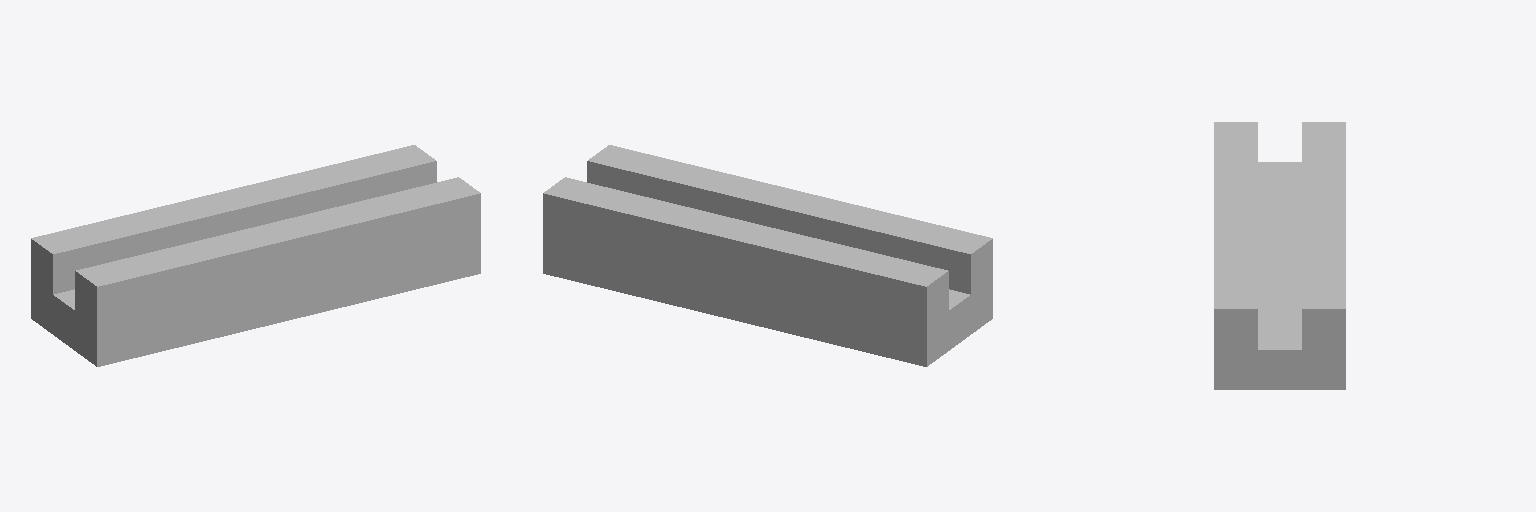
The model's file is Weapons-24-Model 10 Pump.obj.
The picture shows the model from 3 angles: view 1: azimuth 30°, elevation 25°; view 2: azimuth 150°, elevation 25°; view 3: azimuth 270°, elevation 25°; orthographic projection.
Parts seen in each view (by area): view 1: Model 10 Pump; view 2: Model 10 Pump; view 3: Model 10 Pump.
Boxes of the visible parts, x1,y1,x2,y2 form: Model 10 Pump: [31, 145, 480, 366]; Model 10 Pump: [543, 145, 992, 366]; Model 10 Pump: [1214, 122, 1345, 389].
Bounding box in the file's own units: 1 × 0.2 × 0.3.